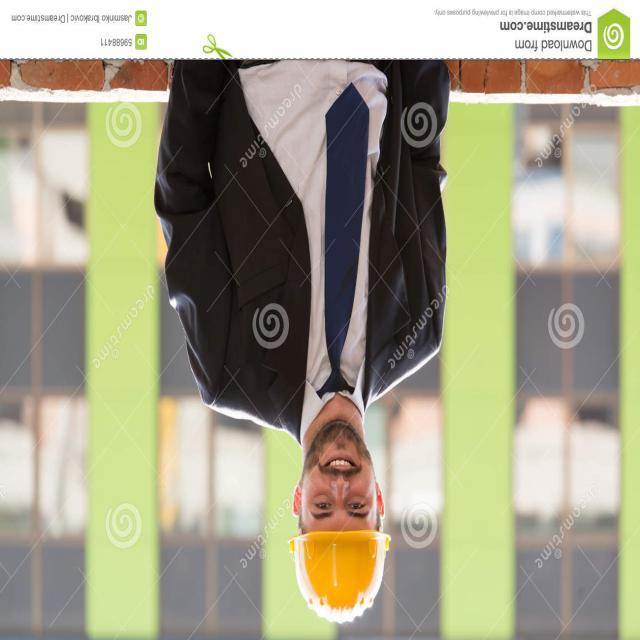safetyhelmet: (261, 410, 419, 627)
